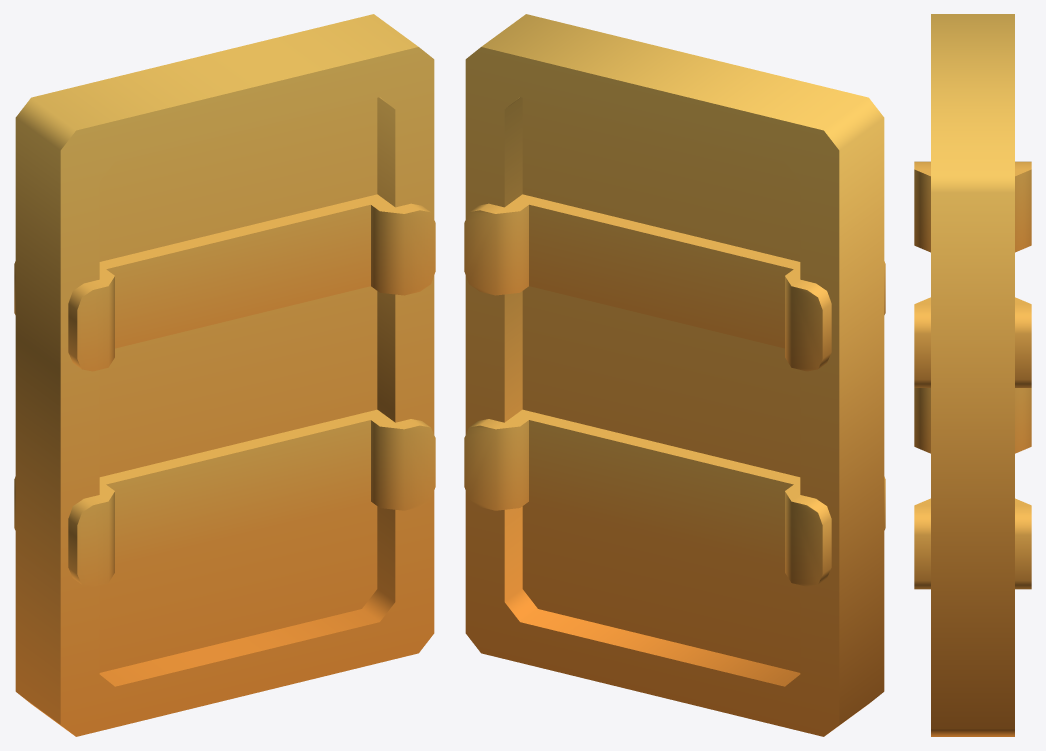
The model's file is door_lev4.glb.
3 views of the same model, side by side, from view 1: azimuth 30°, elevation 25°; view 2: azimuth 150°, elevation 25°; view 3: azimuth 270°, elevation 25° (orthographic). The views are drawn at different scales.
Parts seen in each view (by area): view 1: door_lev4; view 2: door_lev4; view 3: door_lev4.
Part boxes in pixels (x1,y1,x2,y2): door_lev4: [14, 14, 435, 736]; door_lev4: [464, 14, 885, 736]; door_lev4: [914, 14, 1031, 736].
Size of the model in its own units: 7.2 by 11.16 by 2.1.
Materials: 1 (1 with a texture image).
